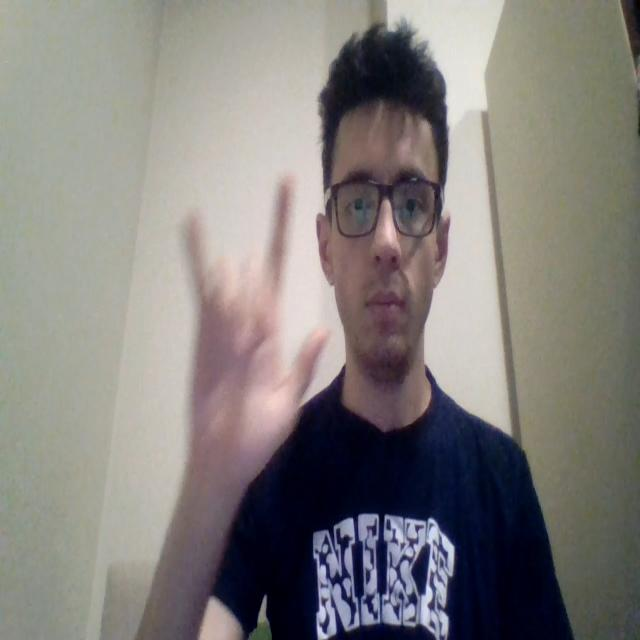iloveyou: (179, 172, 332, 494)
